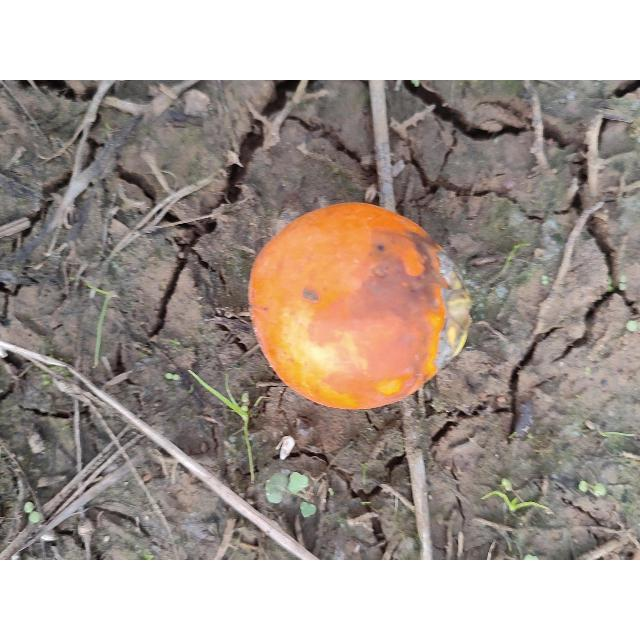good: (248, 203, 472, 412)
